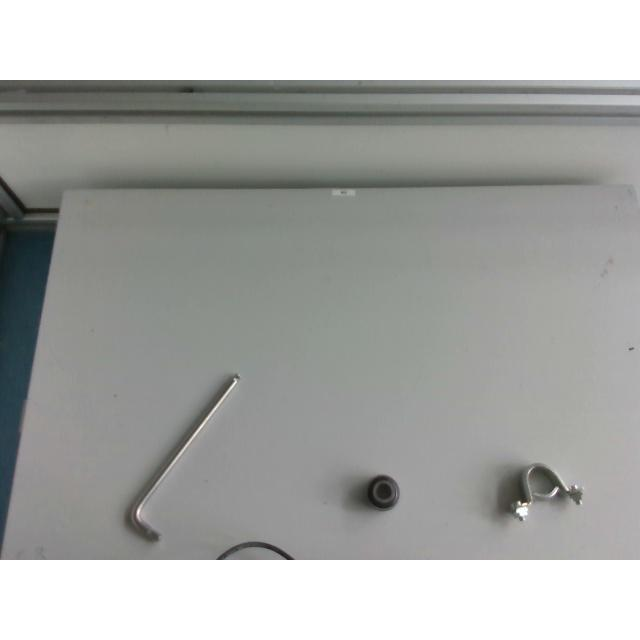AllenKey: (124, 371, 240, 541)
Bearing2: (365, 473, 401, 509)
Housing: (510, 462, 586, 522)
